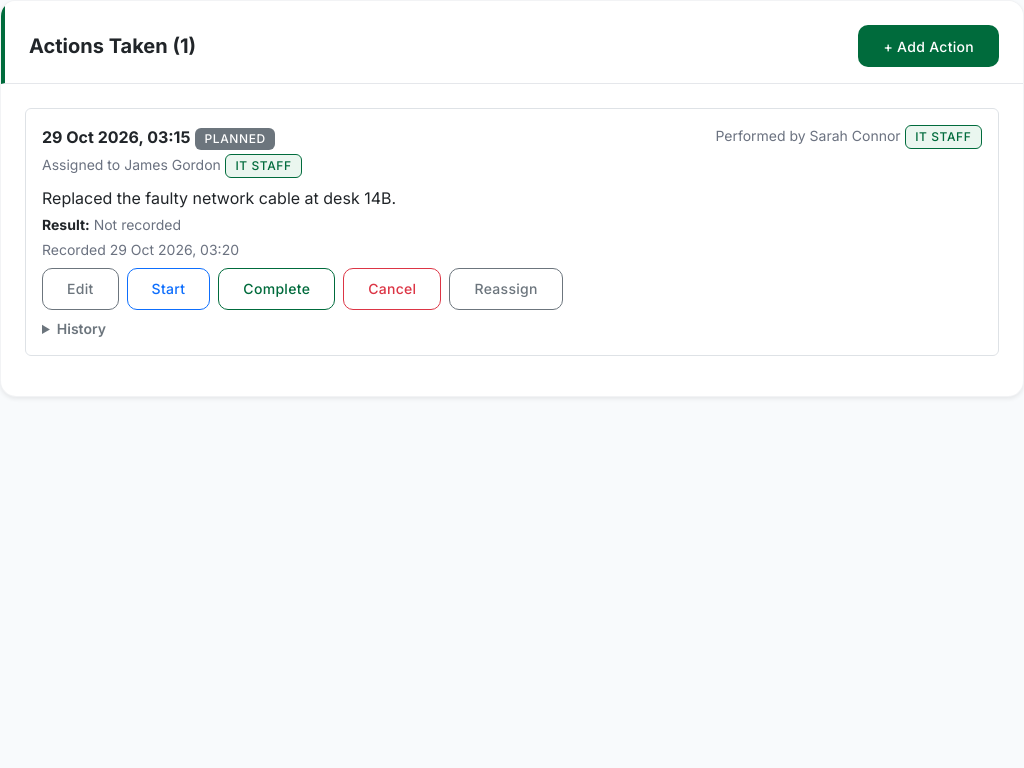
Lab 4: ActionsTaken component (Issue #31) › UI-27: cancelling needs a reason
Click the button "Cancel". click: click(392, 289)
box: [343,268,442,310]
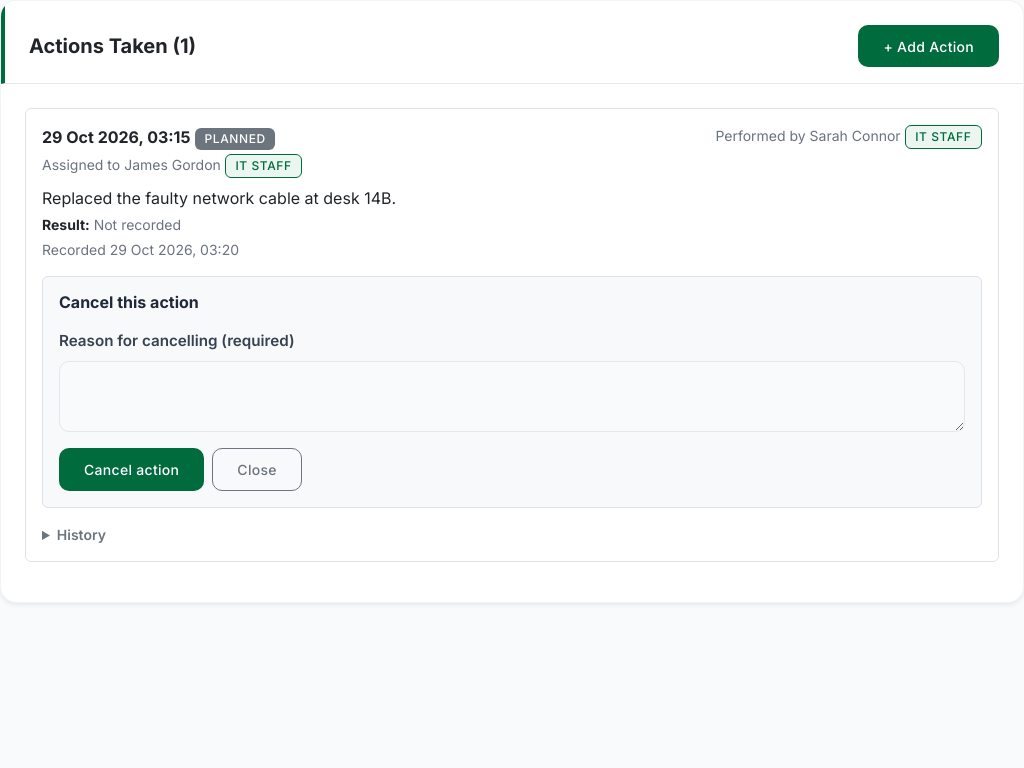
Click the button "Cancel action". click: click(132, 469)
box: [59,448,204,490]
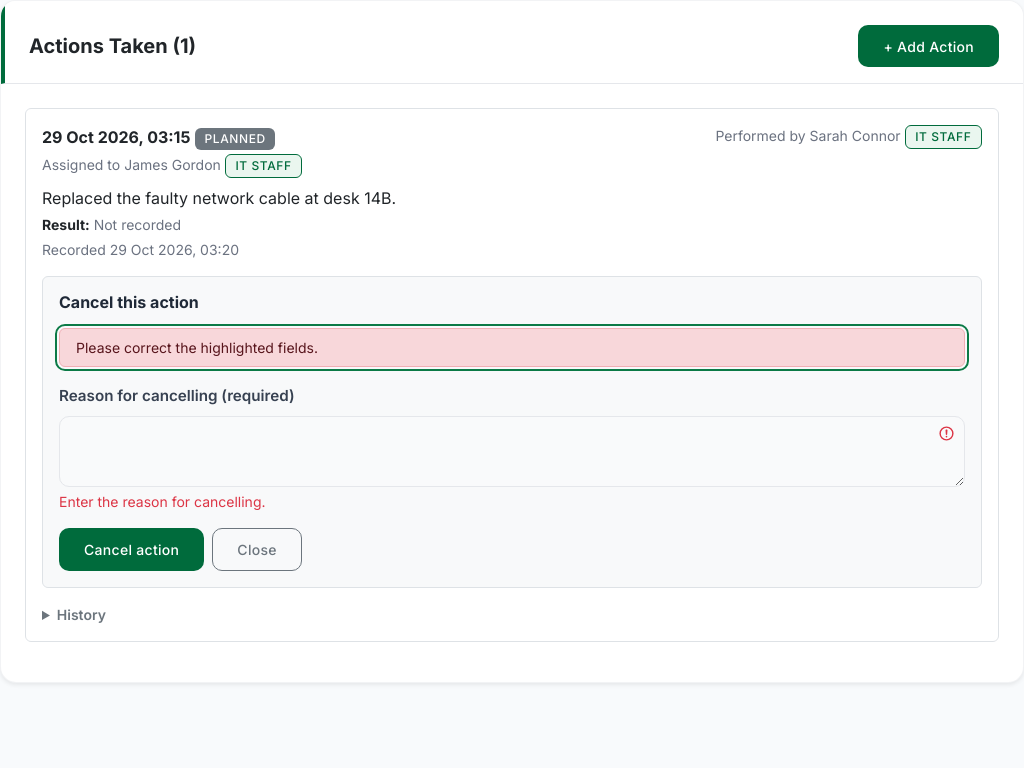
Expected: the text "Enter the reason for cancelling." is shown, [59,493,266,510]
